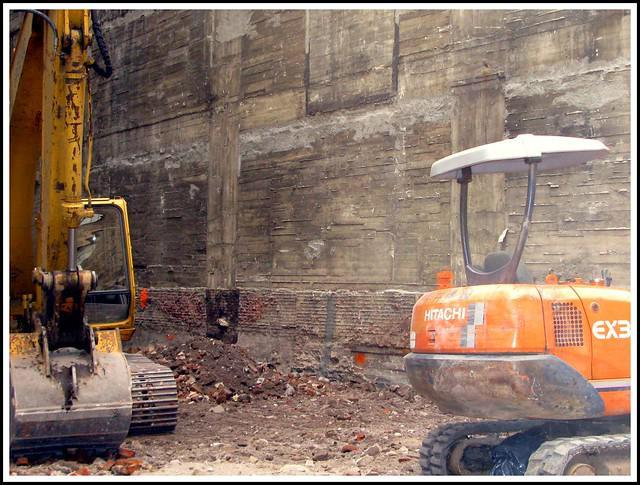EXCAVATORS: (0, 9, 180, 459), (408, 135, 639, 484)
